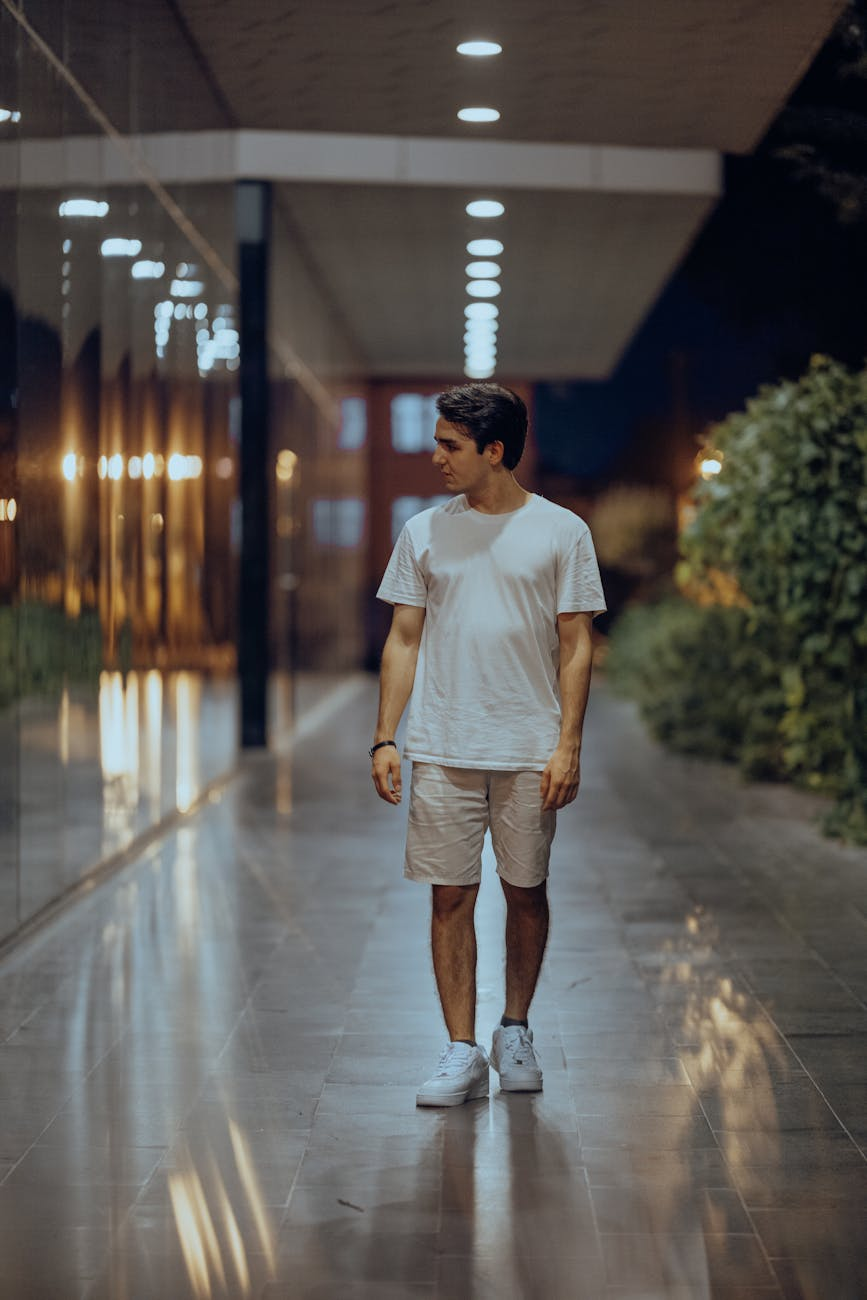shorts: (393, 752, 570, 888)
